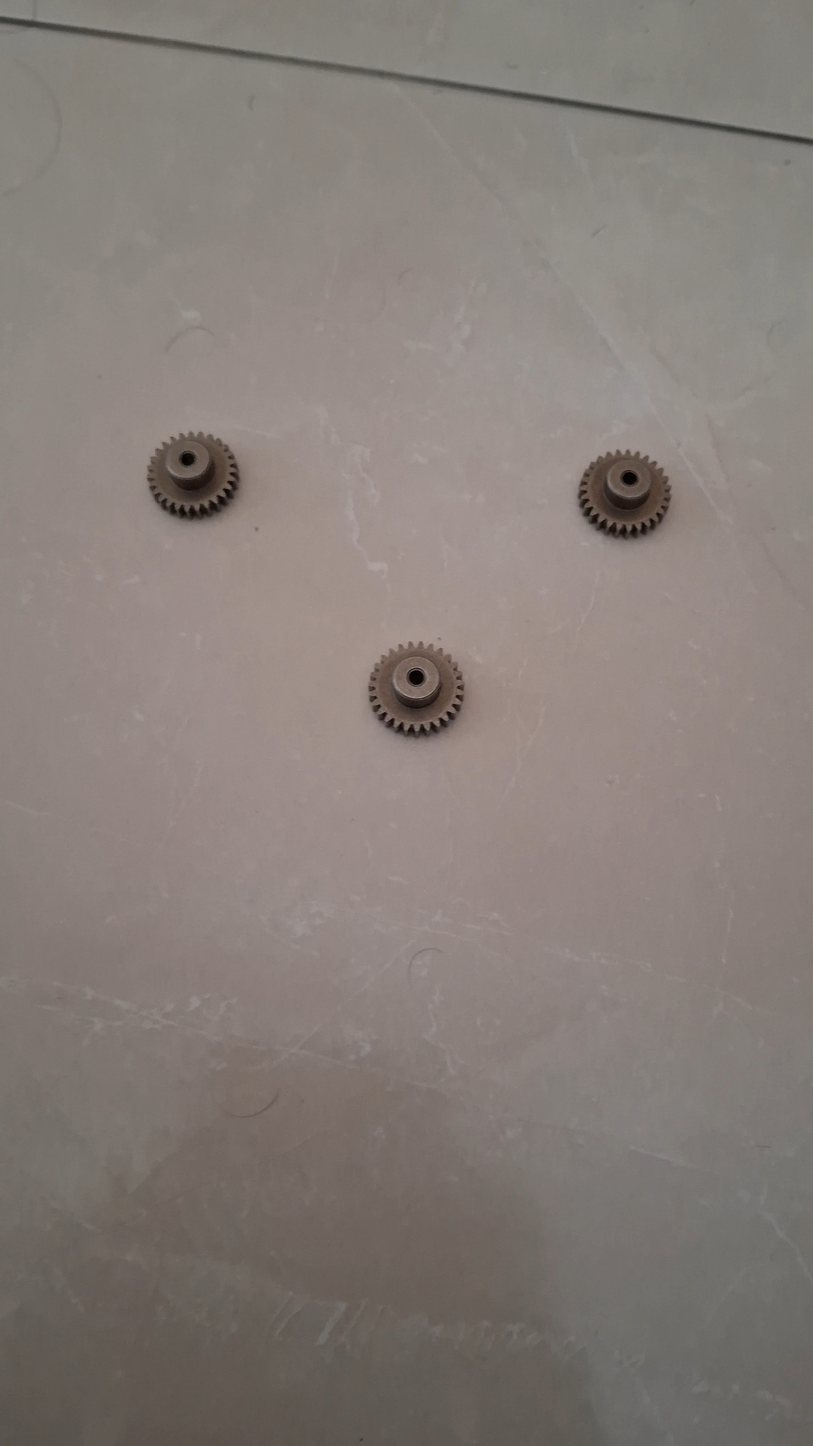spur gear: (369, 642, 463, 734), (147, 433, 239, 517), (579, 451, 670, 535)
